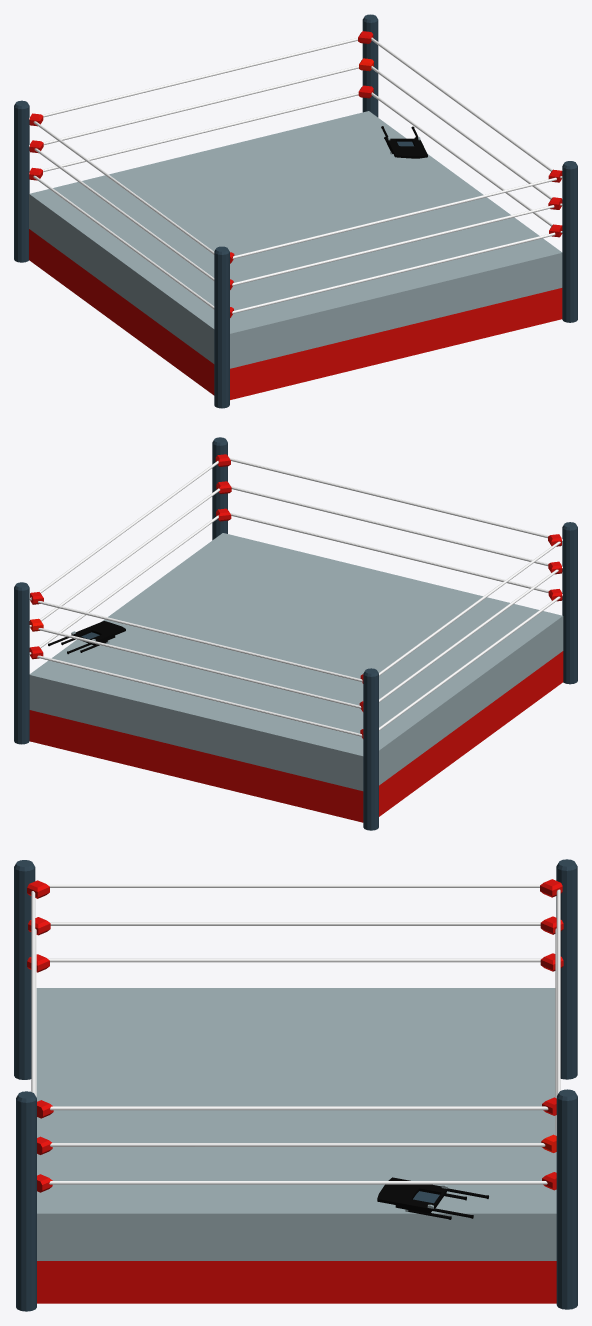
The picture shows the model from 3 angles, top to bottom: view 1: azimuth 30°, elevation 25°; view 2: azimuth 150°, elevation 25°; view 3: azimuth 270°, elevation 25°; orthographic projection. The views are drawn at different scales.
Visible parts, largest first — view 1: group328789628, group163412692, group788371181, group368896621, group1642971909, group21080103, group317741549, group1181248648, group1003898359, group496071842, group916318022, group1052058101 (+6 smaller); view 2: group328789628, group1642971909, group368896621, group788371181, group163412692, group916318022, group1003898359, group496071842, group21080103, group1181248648, group317741549, group1052058101 (+6 smaller); view 3: group328789628, group1642971909, group163412692, group788371181, group368896621, group1911749381, group1593321500, group1052058101, group456450225, group1821265527, group927043435, group1948876350 (+2 smaller).
Boxes of the visible parts, x1,y1,x2,y2 form: group328789628: (29,111,562,399); group163412692: (548,161,577,322); group788371181: (14,100,43,262); group368896621: (214,246,234,408); group1642971909: (358,14,378,117); group21080103: (232,177,556,258); group317741549: (232,232,555,313); group1181248648: (232,205,554,285); group1003898359: (42,38,357,117); group496071842: (43,65,358,144); group916318022: (42,92,358,172); group1052058101: (381,126,427,158); group328789628: (29,533,563,822); group1642971909: (14,582,43,744); group368896621: (548,522,577,684); group788371181: (359,668,378,830); group163412692: (212,437,231,540); group916318022: (37,655,362,736); group1003898359: (38,601,362,682); group496071842: (38,628,361,708); group21080103: (229,458,548,538); group1181248648: (231,486,548,566); group317741549: (230,513,548,593); group1052058101: (48,621,125,654); group328789628: (36,988,556,1303); group1642971909: (541,1089,577,1309); group163412692: (16,1091,53,1311); group788371181: (540,859,577,1079); group368896621: (14,860,50,1079); group1911749381: (50,1106,548,1110); group1593321500: (48,958,541,962); group1052058101: (377,1177,488,1219); group456450225: (49,1181,547,1184); group1821265527: (50,1143,545,1146); group927043435: (47,884,540,887); group1948876350: (49,922,541,925).
Bounding box in the file's own units: 7.53 × 3.1 × 7.42.
